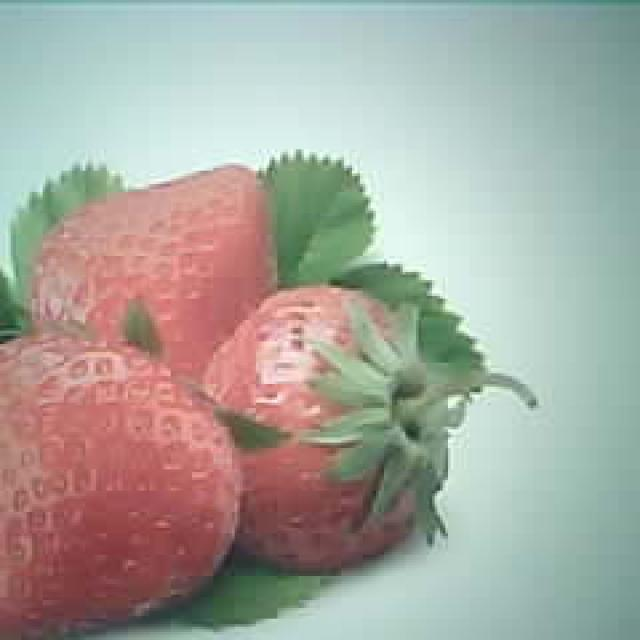ripe: (0, 337, 242, 640), (210, 288, 440, 563), (28, 160, 280, 354)
